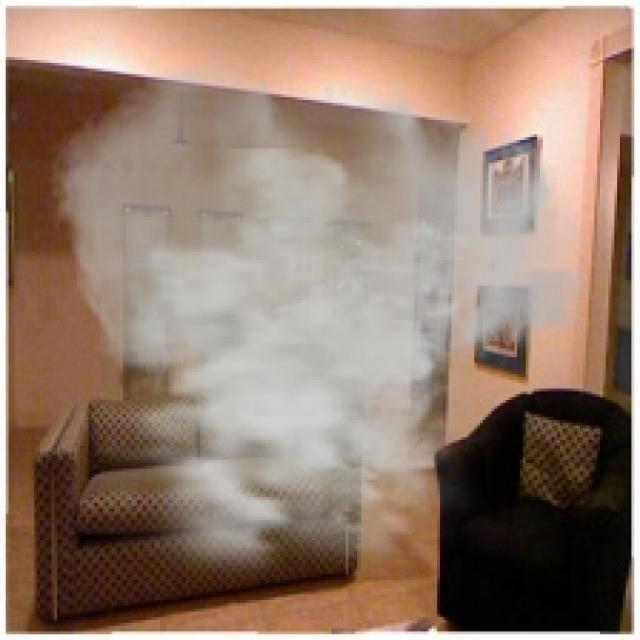Smoke: (46, 57, 592, 600)
